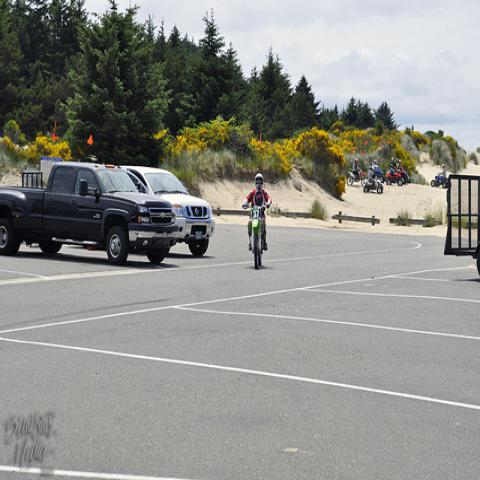car: (124, 165, 217, 252)
motorcycle: (243, 203, 268, 273), (347, 170, 368, 186), (364, 177, 383, 194), (387, 171, 403, 187), (400, 171, 407, 184)
truck: (1, 158, 186, 268), (116, 166, 216, 255)
